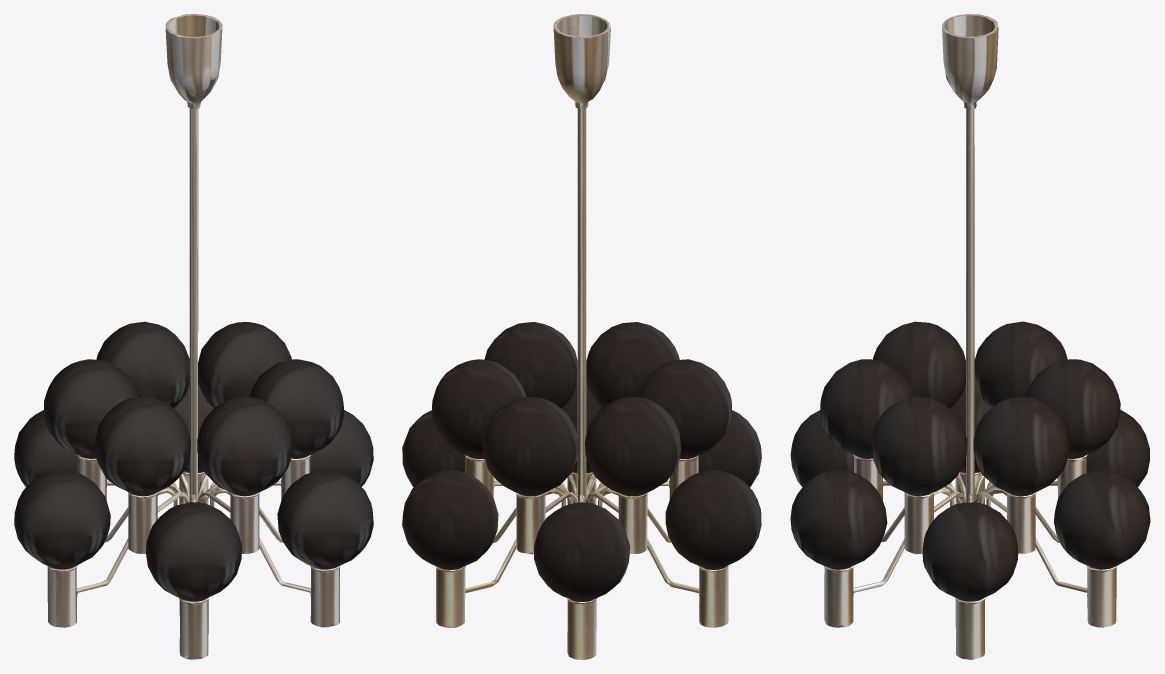
The picture shows the model from 3 angles, left to right: view 1: azimuth 30°, elevation 25°; view 2: azimuth 150°, elevation 25°; view 3: azimuth 270°, elevation 25°; orthographic projection.
Visible parts, largest first — view 1: glass_001, solid_002; view 2: glass_001, solid_002; view 3: glass_001, solid_002.
Part boxes in pixels (x1=…): glass_001: x1=14, y1=321, x2=373, y2=601; solid_002: x1=47, y1=14, x2=340, y2=659; glass_001: x1=402, y1=322, x2=761, y2=601; solid_002: x1=435, y1=14, x2=728, y2=659; glass_001: x1=790, y1=321, x2=1150, y2=601; solid_002: x1=824, y1=14, x2=1116, y2=659.
Bounding box in the file's own units: 0.974 × 1.51 × 0.8759.
1 material, 1 textured.
